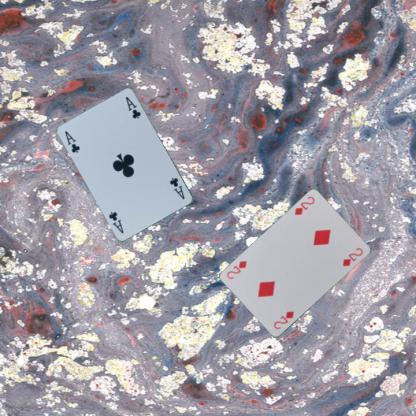2d: (292, 194, 316, 217), (271, 308, 295, 330)
Ac: (62, 128, 82, 154), (167, 175, 186, 201)
